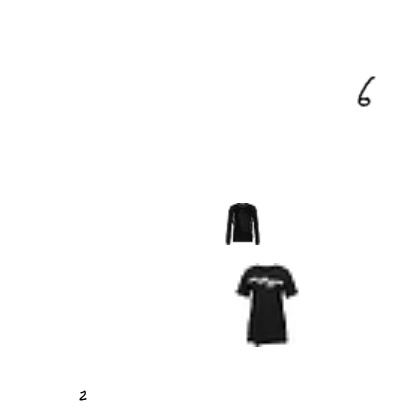2: (76, 389, 90, 403)
6: (344, 72, 386, 114)
Pullover: (221, 203, 263, 245)
T-shirt/top: (223, 263, 307, 347)
